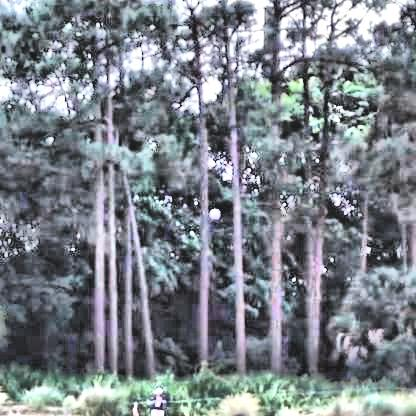golfball: (206, 206, 217, 216)
